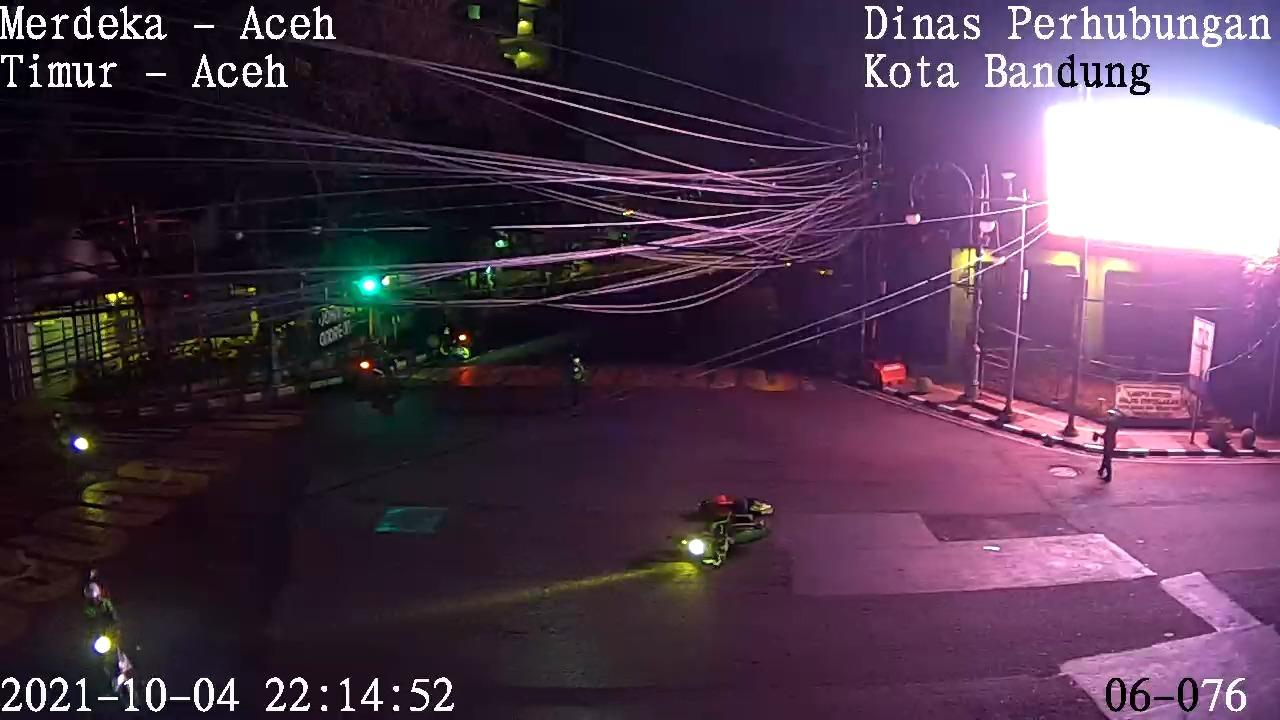accident: (683, 486, 780, 529)
